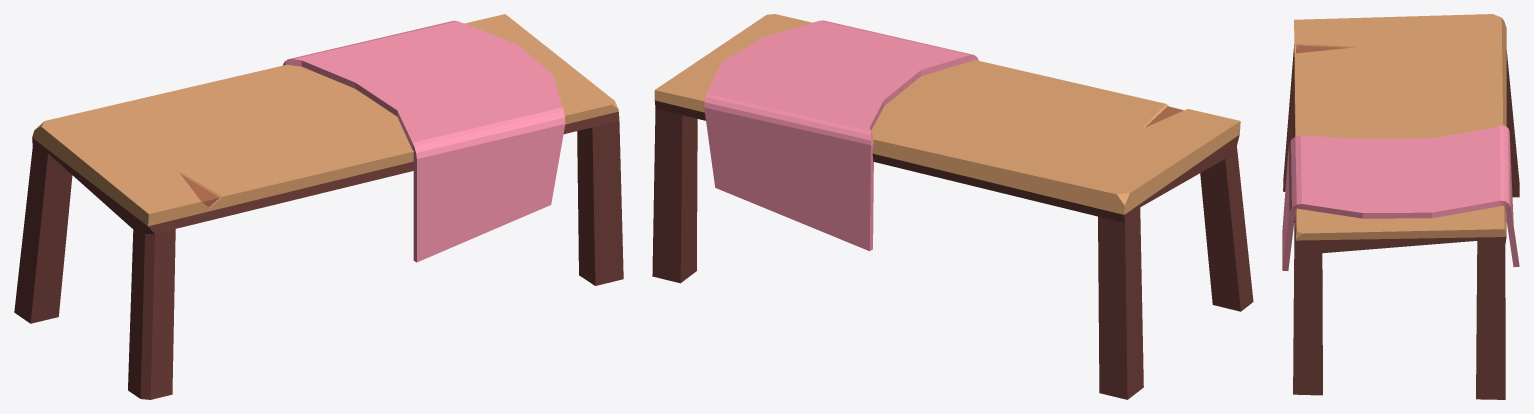
Rendered from Cloth Table.fbx.
3 renders of one model, left to right at view 1: azimuth 30°, elevation 25°; view 2: azimuth 150°, elevation 25°; view 3: azimuth 270°, elevation 25°, orthographic. The views are drawn at different scales.
Visible parts, largest first — view 1: Market Weaver Table; view 2: Market Weaver Table; view 3: Market Weaver Table.
Boxes of the visible parts, x1,y1,x2,y2 form: Market Weaver Table: (14, 14, 623, 399); Market Weaver Table: (652, 14, 1253, 399); Market Weaver Table: (1282, 14, 1519, 399).
Bounding box in the file's own units: 247 × 95.41 × 115.
